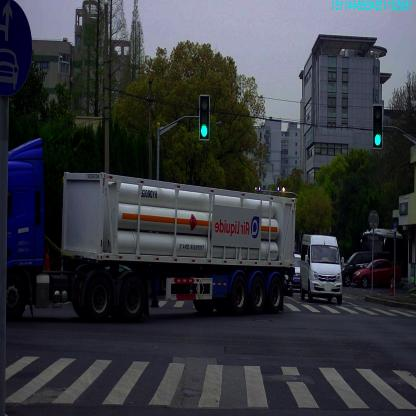traffic-light: (199, 95, 209, 139), (373, 105, 382, 148)
